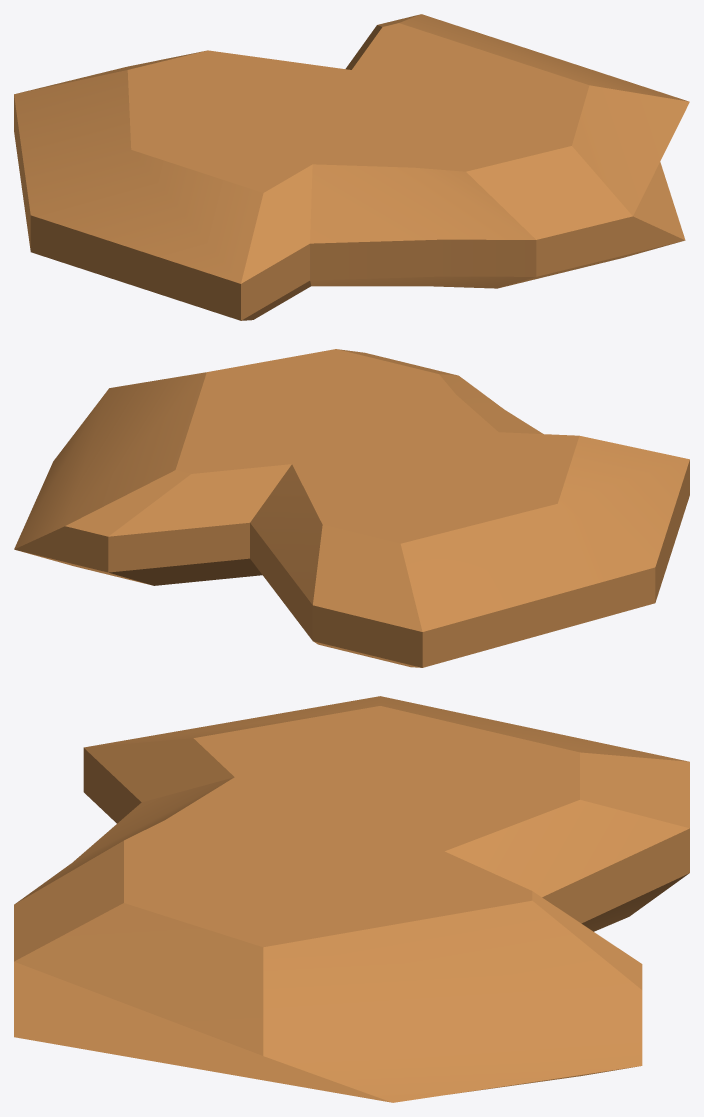
Rendered from Rock_Medium_Flat_Dirt_01.fbx.
3 renders of one model, top to bottom at view 1: azimuth 30°, elevation 25°; view 2: azimuth 150°, elevation 25°; view 3: azimuth 270°, elevation 25°, orthographic. The views are drawn at different scales.
Visible parts, largest first — view 1: Rock_Medium_Flat_Dirt_01; view 2: Rock_Medium_Flat_Dirt_01; view 3: Rock_Medium_Flat_Dirt_01.
Boxes of the visible parts, left/top/right/bottom form: Rock_Medium_Flat_Dirt_01: left=14, top=14, right=689, bottom=320; Rock_Medium_Flat_Dirt_01: left=14, top=349, right=689, bottom=667; Rock_Medium_Flat_Dirt_01: left=14, top=696, right=689, bottom=1102.
Bounding box in the file's own units: 147 × 23.93 × 116.
